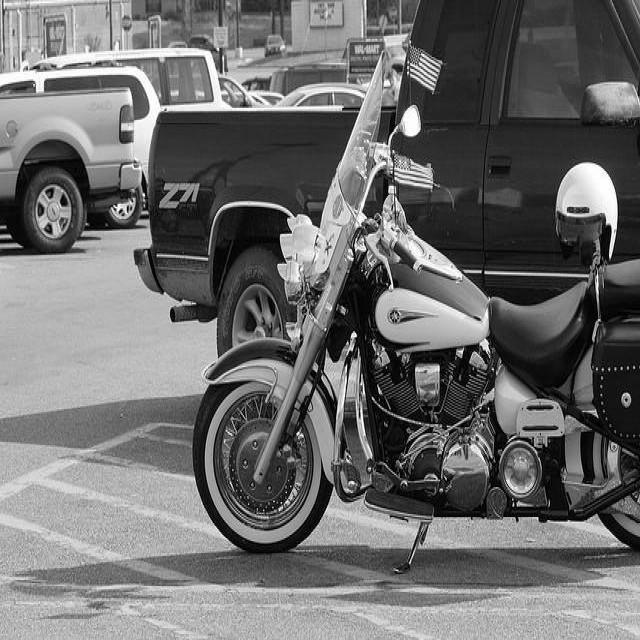vehicle: (185, 43, 640, 589), (133, 0, 639, 357), (1, 66, 161, 228), (0, 89, 142, 260), (31, 40, 233, 114), (275, 81, 369, 113), (270, 63, 348, 98), (218, 77, 280, 113), (247, 90, 284, 108)
